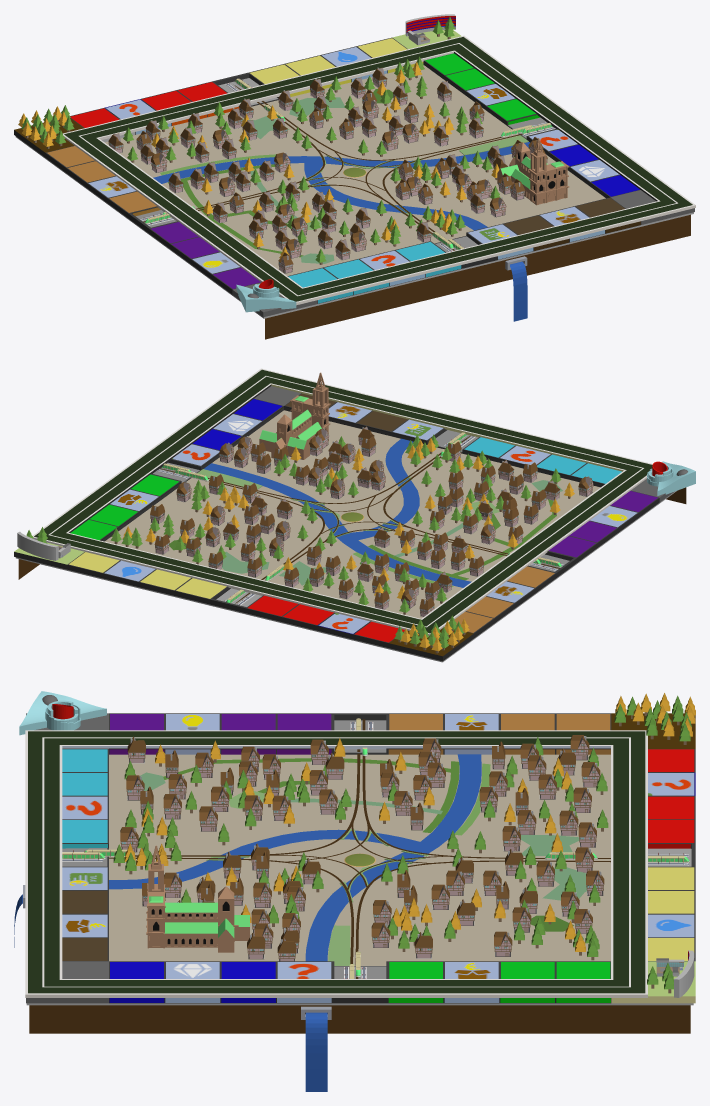
The model's file is plateau.gltf.
3 renders of one model, top to bottom at view 1: azimuth 30°, elevation 25°; view 2: azimuth 150°, elevation 25°; view 3: azimuth 270°, elevation 25°, orthographic. The views are drawn at different scales.
Parts seen in each view (by area): view 1: cathedrale.002; view 2: cathedrale.002; view 3: cathedrale.002.
Boxes of the visible parts, x1,y1,x2,y2 form: cathedrale.002: (14,14,695,339); cathedrale.002: (14,368,695,662); cathedrale.002: (14,691,695,1091).
Bounding box in the file's own units: 4.23 × 1.12 × 4.11.
1 material, 1 textured.
